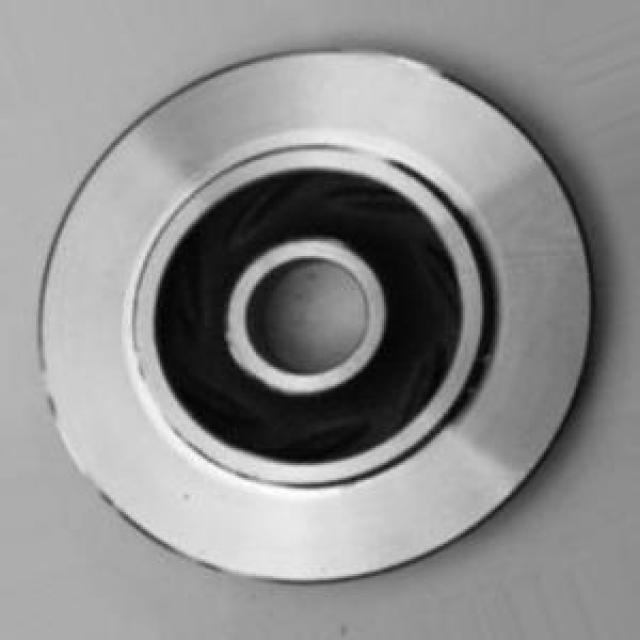Defect: (174, 482, 202, 507)
